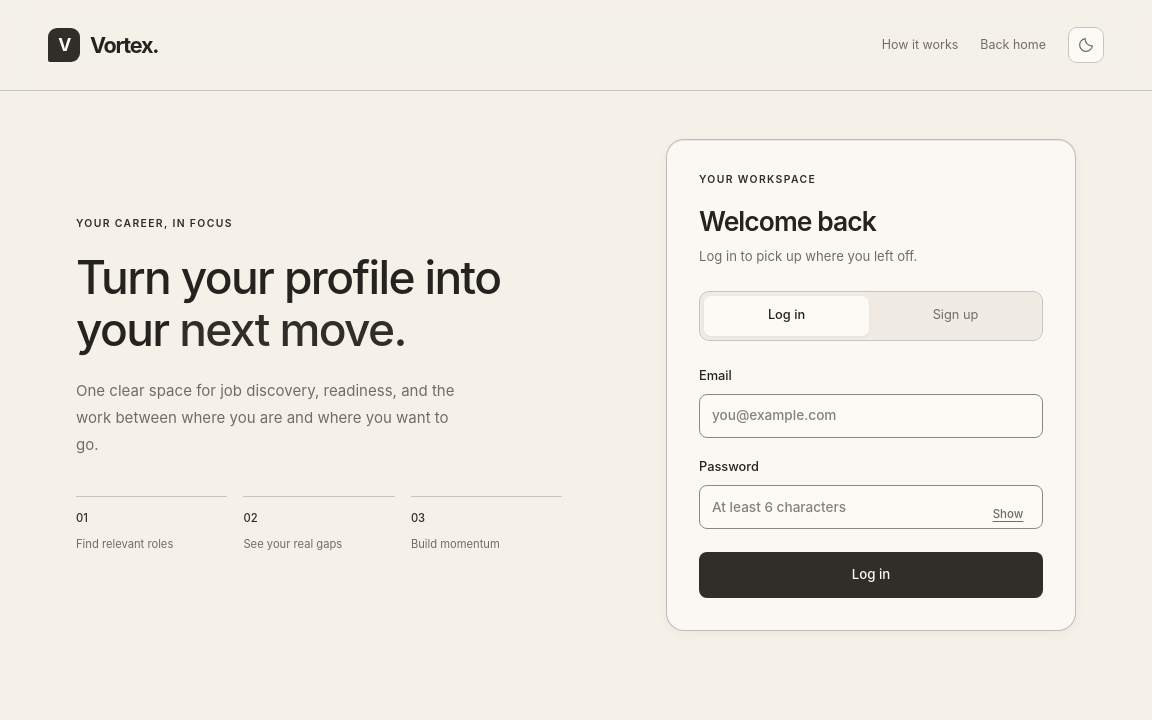
Test: Login page › shows the blocked-session message when the account is already logged in
In the field labelled "Email": {"x": 871, "y": 416} 699,394 -> 1043,438, type "user@test.com"
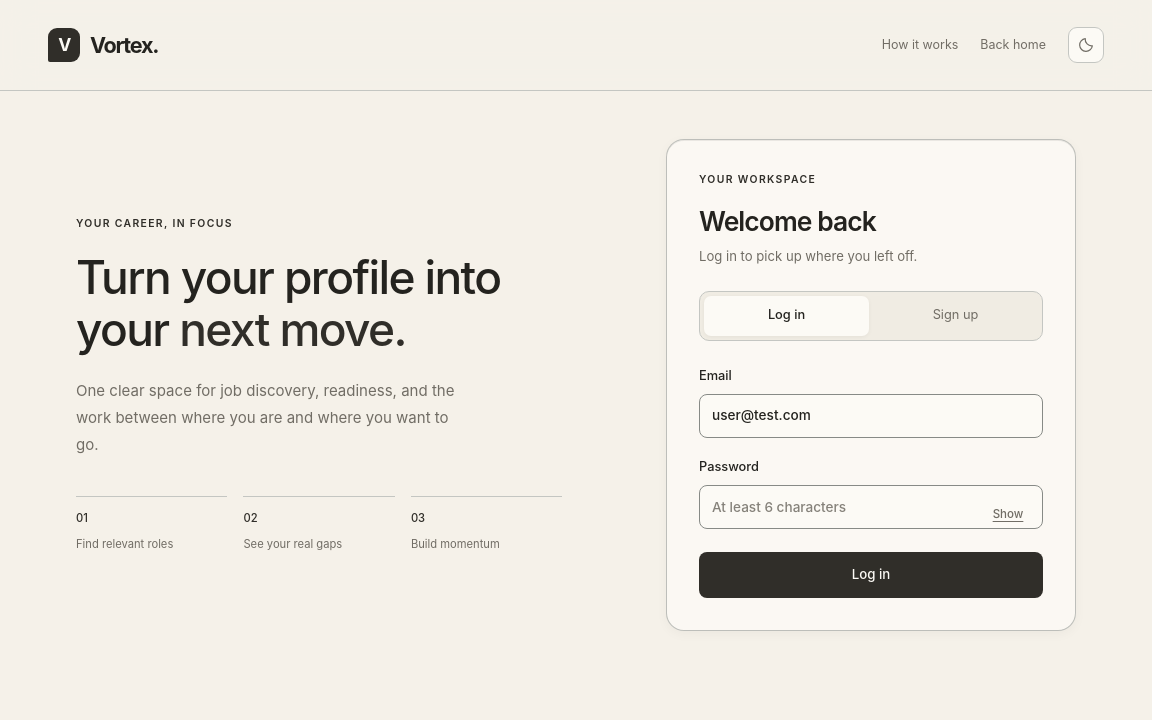
In the password field labelled "Password": {"x": 871, "y": 508} 699,486 -> 1043,530, type "secret123"
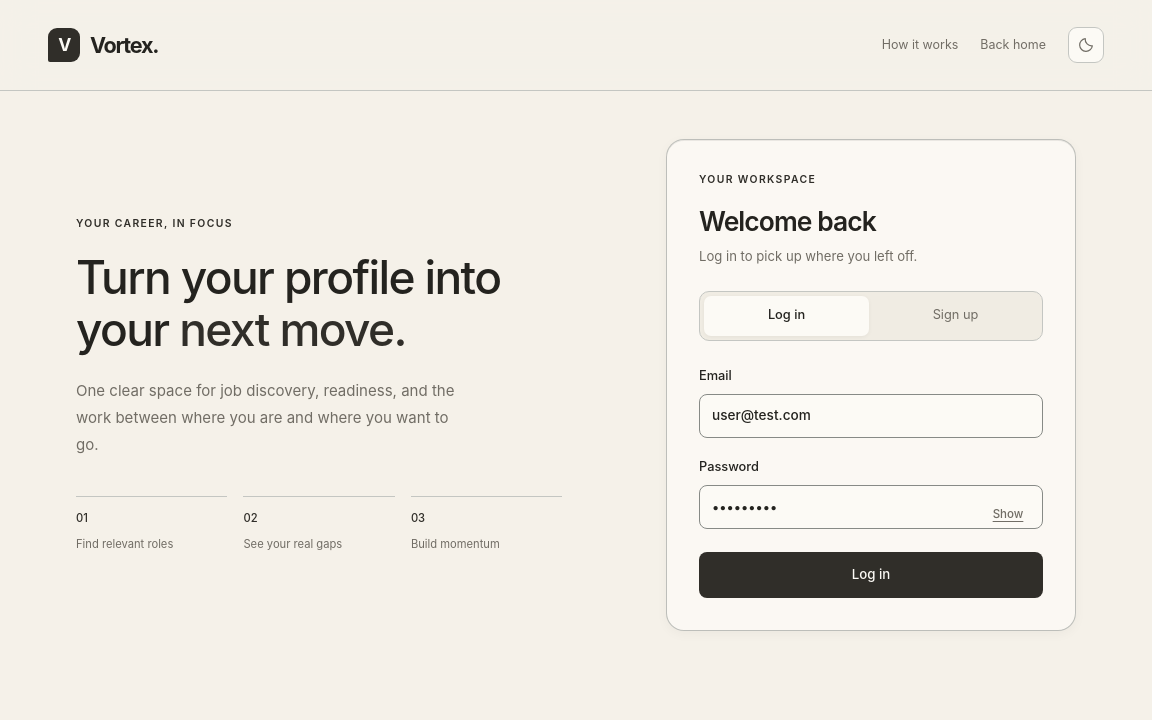
Click the 2nd button "Log in": {"x": 871, "y": 575} 699,552 -> 1043,598
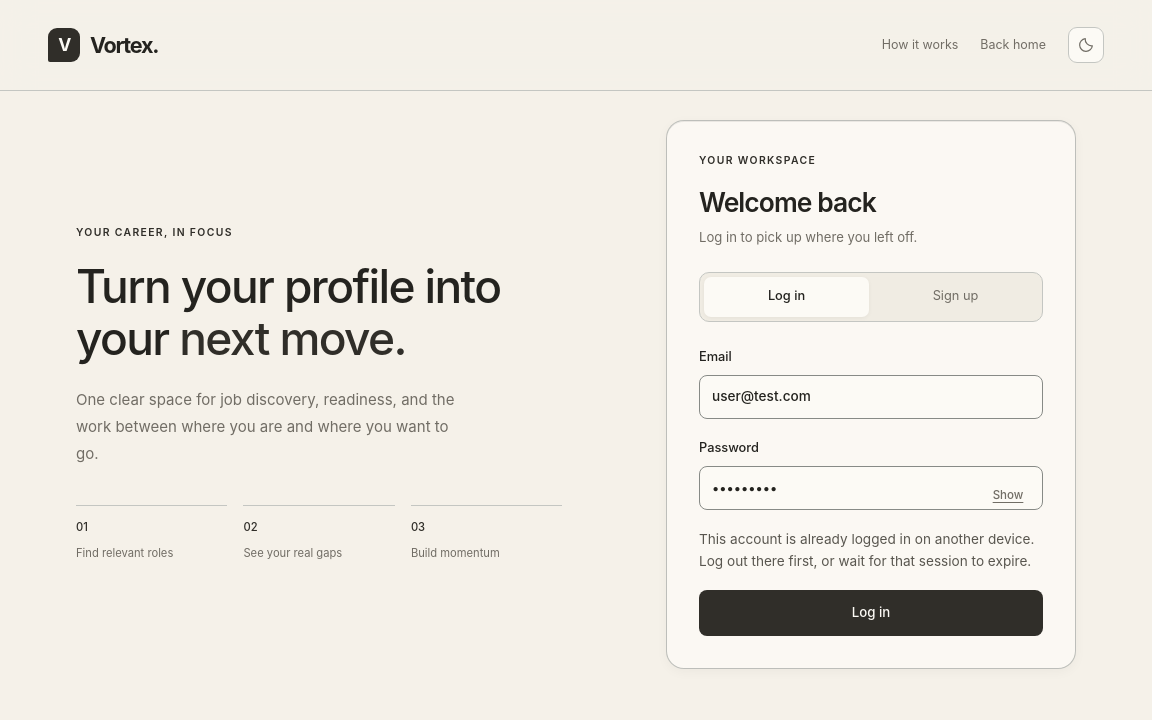
Expected: the message shows "already logged in on another device", 699,531 -> 1034,569
